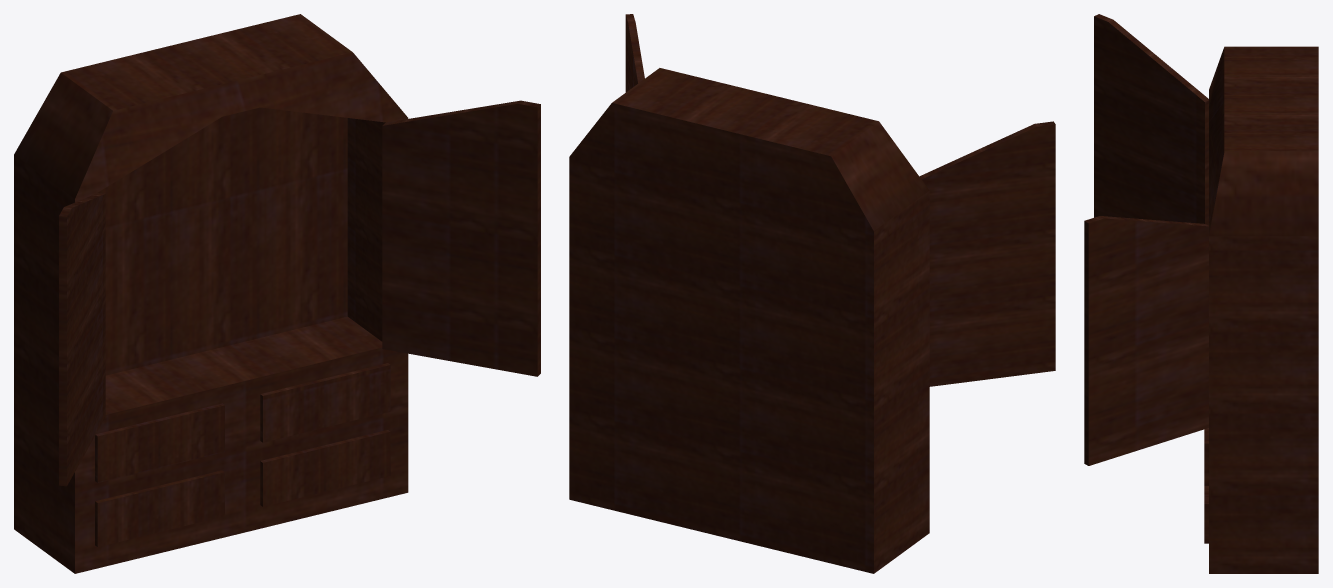
File: dresser.fbx
3 renders of one model, left to right at view 1: azimuth 30°, elevation 25°; view 2: azimuth 150°, elevation 25°; view 3: azimuth 270°, elevation 25°, orthographic. The views are drawn at different scales.
Parts seen in each view (by area): view 1: polySurface1; view 2: polySurface1; view 3: polySurface1.
Part boxes in pixels (x1,y1,x2,y2): polySurface1: [14, 14, 540, 573]; polySurface1: [569, 14, 1055, 573]; polySurface1: [1084, 14, 1318, 573].
Size of the model in its own units: 2.52 by 2.25 by 1.19.
